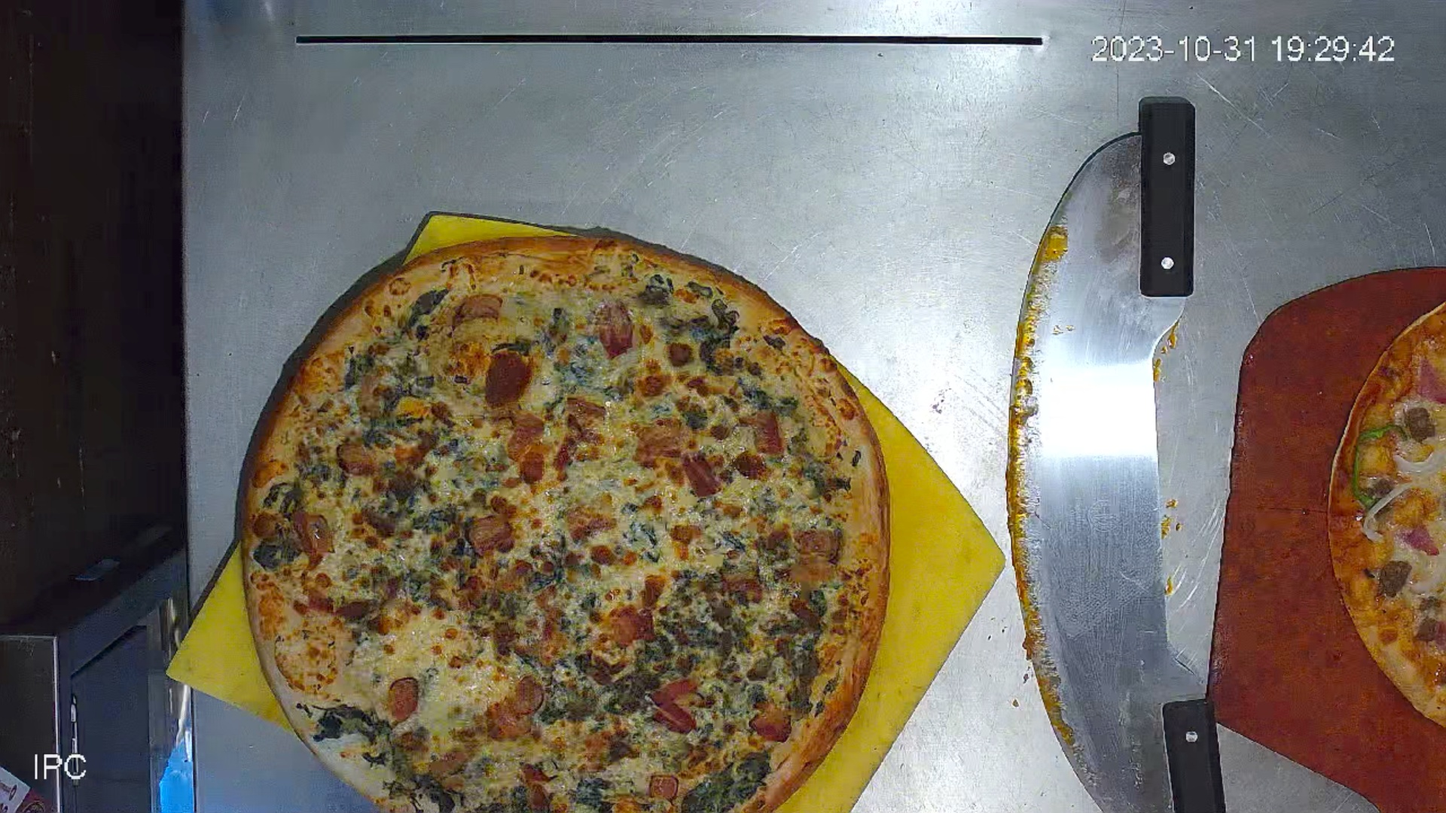pepporoni: (235, 229, 894, 809), (1330, 301, 1445, 730)
